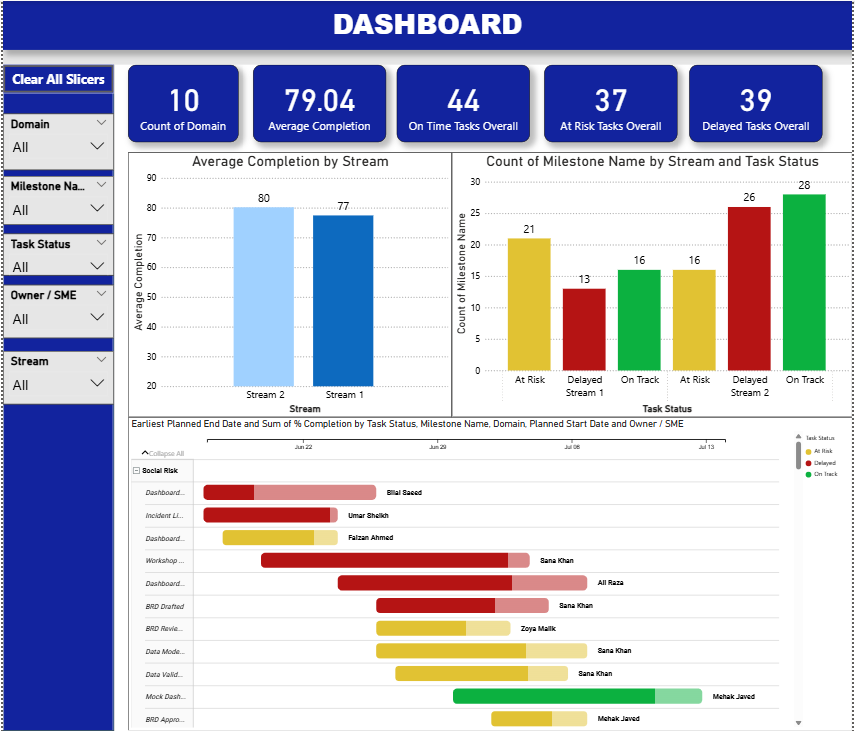

The dashboard page shown, as its layout file describes it:
{"tool":"powerbi","page":{"name":"Overall Tracker","canvas":[1500,1300],"ordinal":2},"visuals":[{"type":"shape","box":[0,0,196,1290],"z":0},{"type":"slicer","fields":{"Values":["Tracker.Domain"]},"box":[0,198,196,100],"z":1000},{"type":"slicer","fields":{"Values":["Tracker.Milestone Name"]},"box":[0,310,196,86],"z":2000},{"type":"slicer","fields":{"Values":["Tracker.Task Status"]},"box":[0,410,196,74],"z":3000},{"type":"slicer","fields":{"Values":["Tracker.Owner / SME"]},"box":[0,502,196,94],"z":4000},{"type":"card","fields":{"Values":["Count(Overall.Domain)"]},"box":[220,111.7,195,136.7],"z":5000},{"type":"card","fields":{"Values":["Overall.Average Completion"]},"box":[441.7,111.7,235,136.7],"z":6000},{"type":"card","fields":{"Values":["Overall.On Time Tasks Overall"]},"box":[695,111.7,235,136.7],"z":7000},{"type":"card","fields":{"Values":["Overall.At Risk Tasks Overall"]},"box":[955,111.7,235,136.7],"z":8000},{"type":"card","fields":{"Values":["Overall.Delayed Tasks Overall"]},"box":[1211.7,111.7,235,136.7],"z":9000},{"type":"shape","box":[0,0,1500,112],"z":10000},{"type":"actionButton","box":[0,112,196,50],"z":11000},{"type":"textbox","box":[0,0,1500,86],"z":12000},{"type":"columnChart","fields":{"Y":["Overall.Average Completion"],"Category":["Overall.Stream"]},"box":[220,268,572,468],"z":13000},{"type":"Gantt1448688115699","fields":{"Task":["Overall.Milestone Name"],"Parent":["Overall.Domain"],"StartDate":["Overall.Planned Start Date"],"EndDate":["Min(Overall.Planned End Date)"],"Legend":["Overall.Task Status"],"Completion":["Sum(Overall.% Completion)"],"Resource":["Overall.Owner / SME"]},"box":[220,736,1280,554],"z":14000},{"type":"clusteredColumnChart","fields":{"Category":["Overall.Stream","Overall.Task Status"],"Y":["CountNonNull(Overall.Milestone Name)"]},"box":[792,268,708,468],"z":15000},{"type":"slicer","fields":{"Values":["Overall.Stream"]},"box":[0,618,196,94],"z":16000}]}

Visuals, with their boxes in screenshot pixels (x1, y1, x2, y2), scaled from the page's 1500x1300 canvas onto the 855x732 screenshot:
shape: bbox(0, 0, 112, 726)
slicer - Tracker.Domain: bbox(0, 111, 112, 168)
slicer - Tracker.Milestone Name: bbox(0, 175, 112, 223)
slicer - Tracker.Task Status: bbox(0, 231, 112, 273)
slicer - Tracker.Owner / SME: bbox(0, 283, 112, 336)
card - Count(Overall.Domain): bbox(125, 63, 237, 140)
card - Overall.Average Completion: bbox(252, 63, 386, 140)
card - Overall.On Time Tasks Overall: bbox(396, 63, 530, 140)
card - Overall.At Risk Tasks Overall: bbox(544, 63, 678, 140)
card - Overall.Delayed Tasks Overall: bbox(691, 63, 825, 140)
shape: bbox(0, 0, 854, 63)
actionButton: bbox(0, 63, 112, 91)
textbox: bbox(0, 0, 854, 48)
columnChart - Overall.Average Completion x Overall.Stream: bbox(125, 151, 451, 414)
Gantt1448688115699 - Overall.Milestone Name x Overall.Domain: bbox(125, 414, 854, 726)
clusteredColumnChart - Overall.Stream x Overall.Task Status: bbox(451, 151, 854, 414)
slicer - Overall.Stream: bbox(0, 348, 112, 401)
